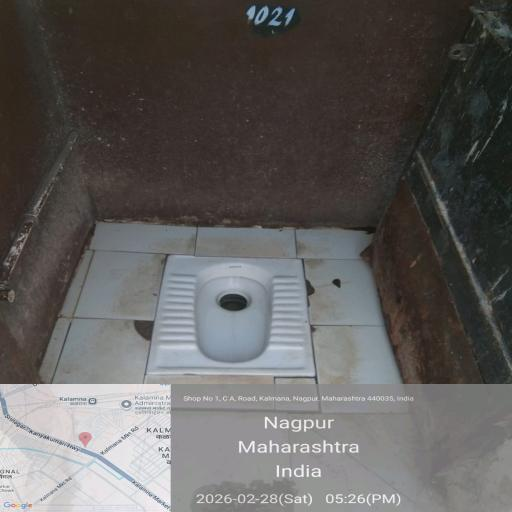clean_indian: (145, 262, 313, 408)
partial_dirty_floor: (30, 24, 405, 262), (67, 315, 491, 512)
